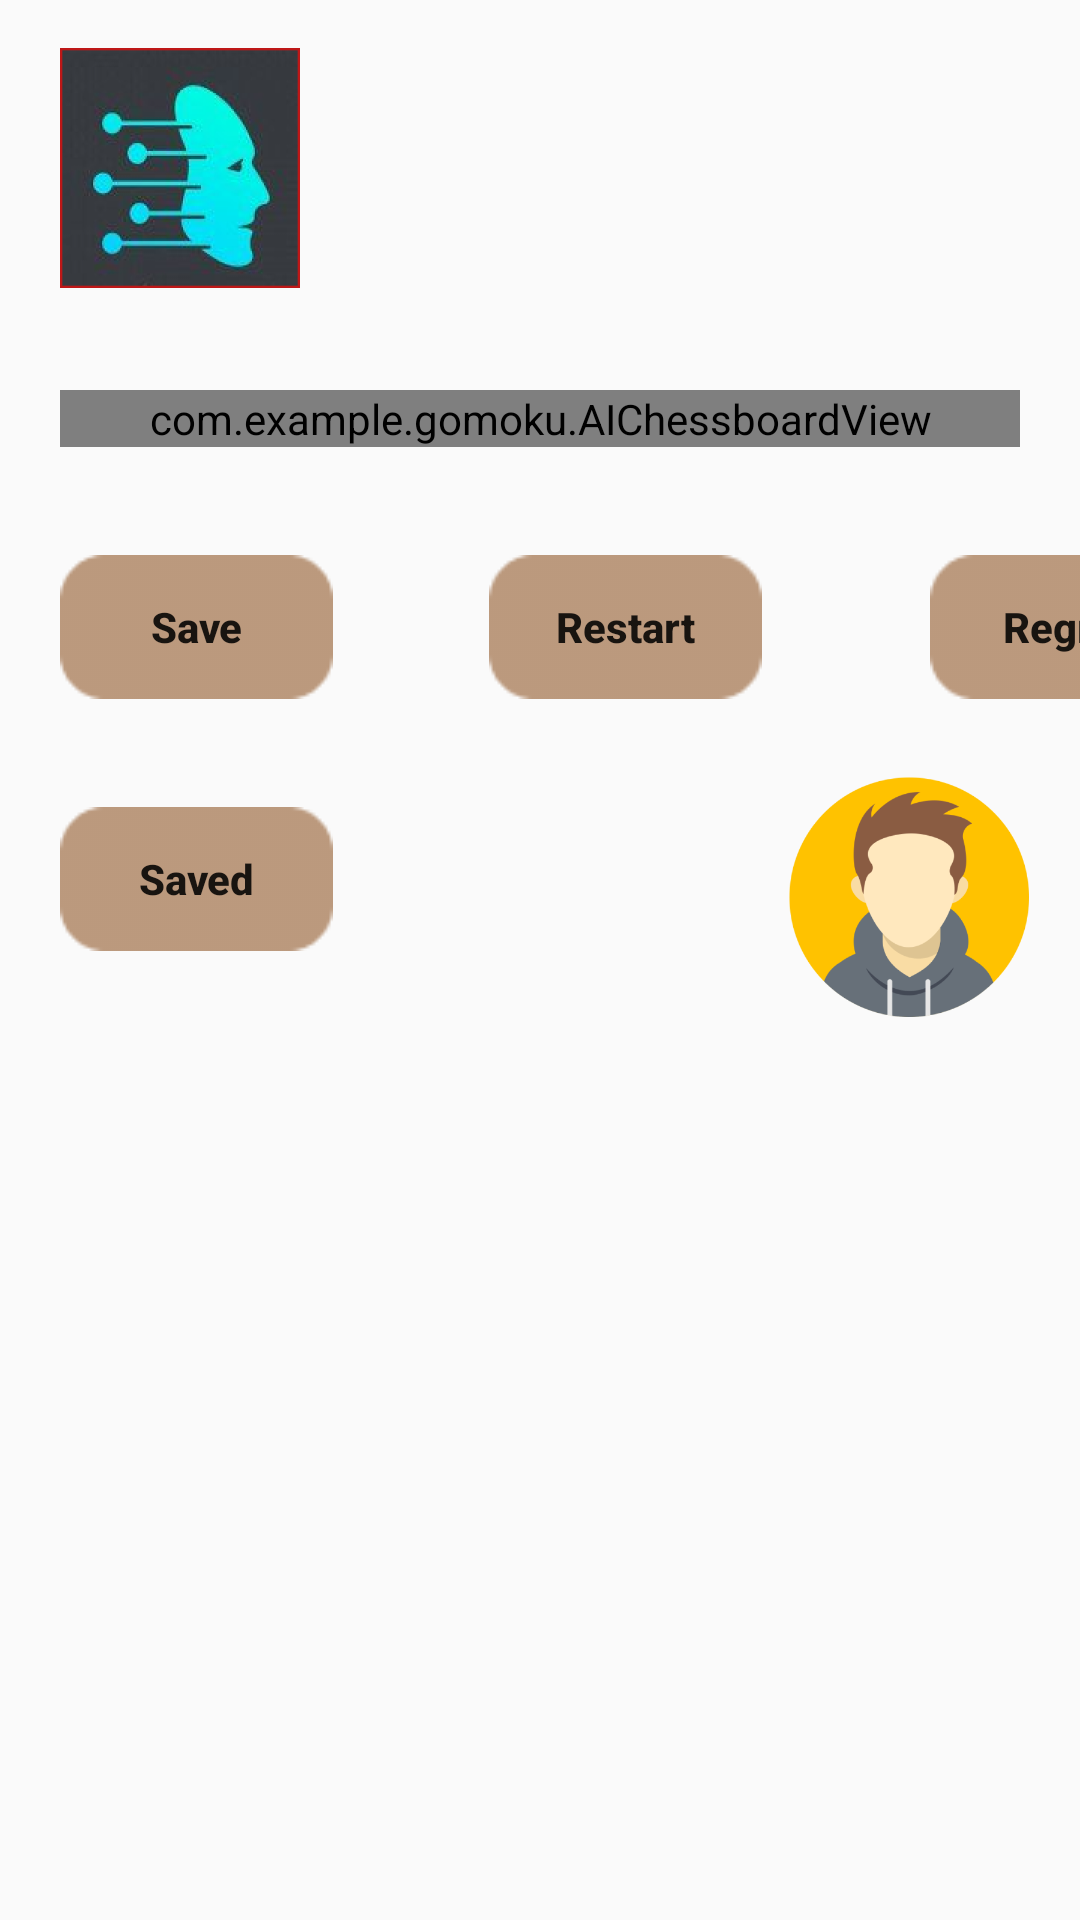

Screen size 1080w x 1920h. Icon name, then its center in pixels as point (x, y):
avater: point (909, 897)
